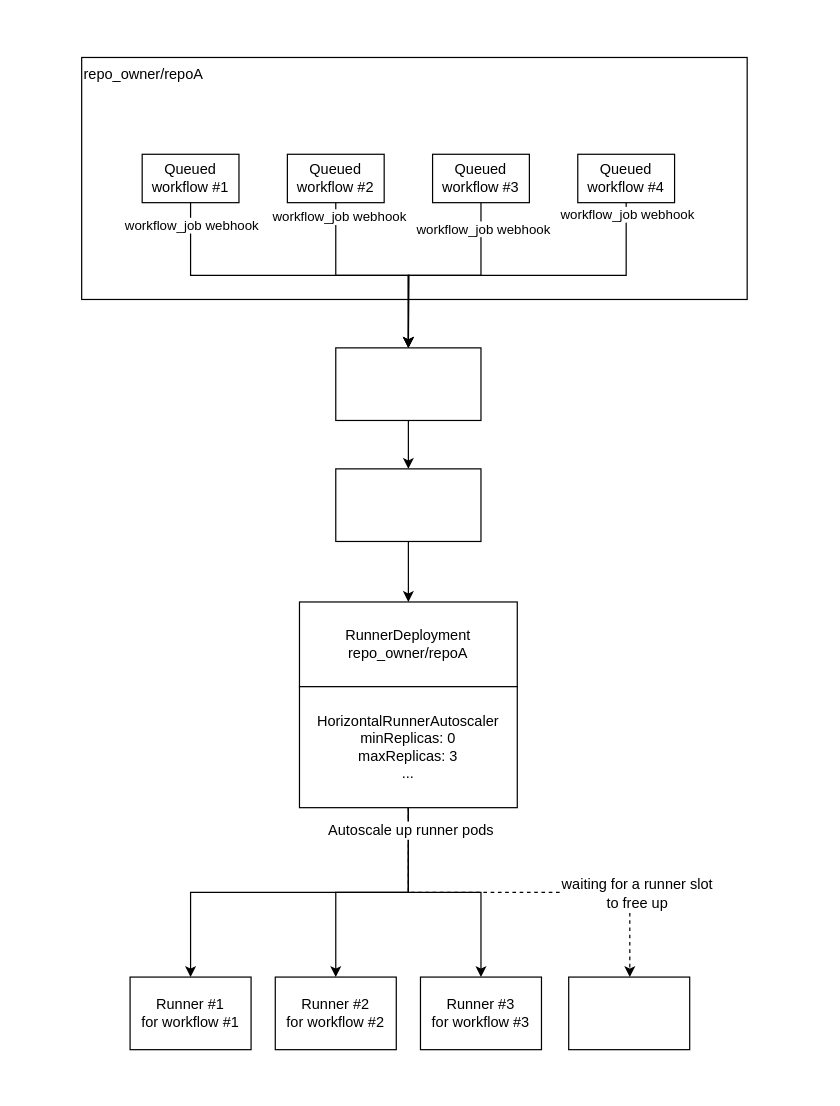
The diagram is 840 pixels wide and 1106 high, and some of its shapes have lost their labels. Each missing label, with the centre of its shape:
"ARC controller" belongs at [408,504].
"ARC Webhook Server" belongs at [408,383].
"Runner #4 for workflow #4" belongs at [628,1013].
